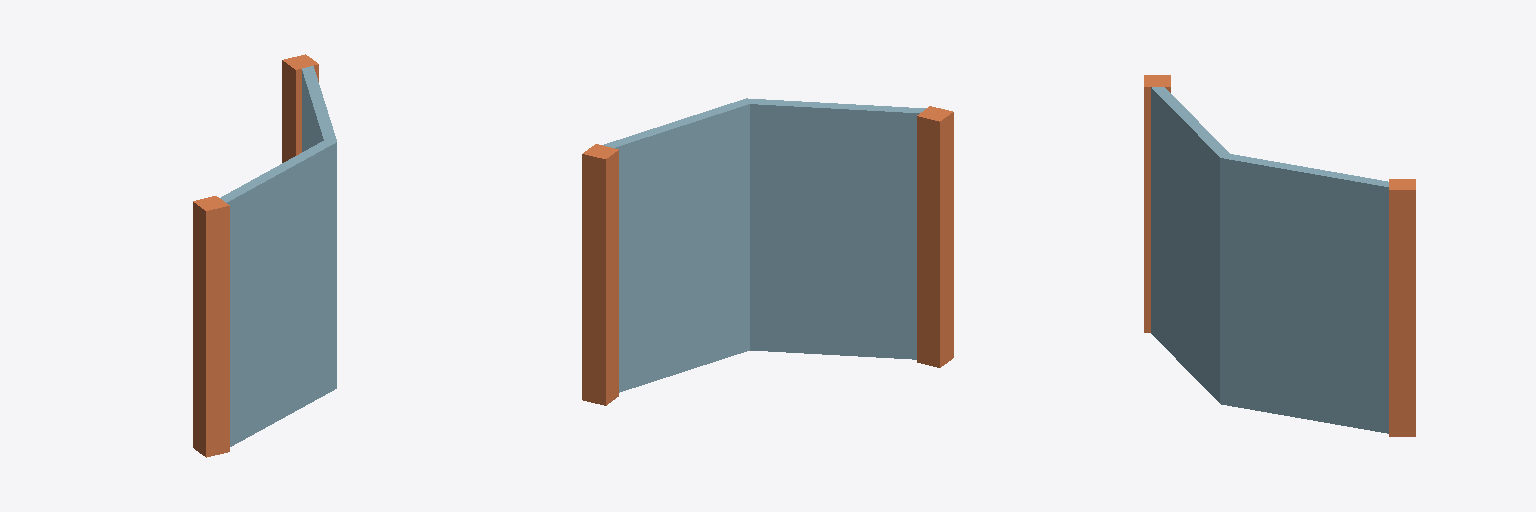
Rendered from wallCornerEdge.obj.
3 renders of one model, left to right at view 1: azimuth 30°, elevation 25°; view 2: azimuth 150°, elevation 25°; view 3: azimuth 270°, elevation 25°, orthographic.
Parts seen in each view (by area): view 1: wallCornerEdge; view 2: wallCornerEdge; view 3: wallCornerEdge.
Boxes of the visible parts, x1,y1,x2,y2 form: wallCornerEdge: [193, 54, 336, 457]; wallCornerEdge: [582, 98, 953, 405]; wallCornerEdge: [1144, 75, 1415, 436].
Size of the model in its own units: 1 by 1 by 1.